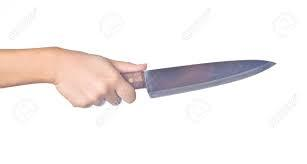Knife: (119, 58, 277, 98)
